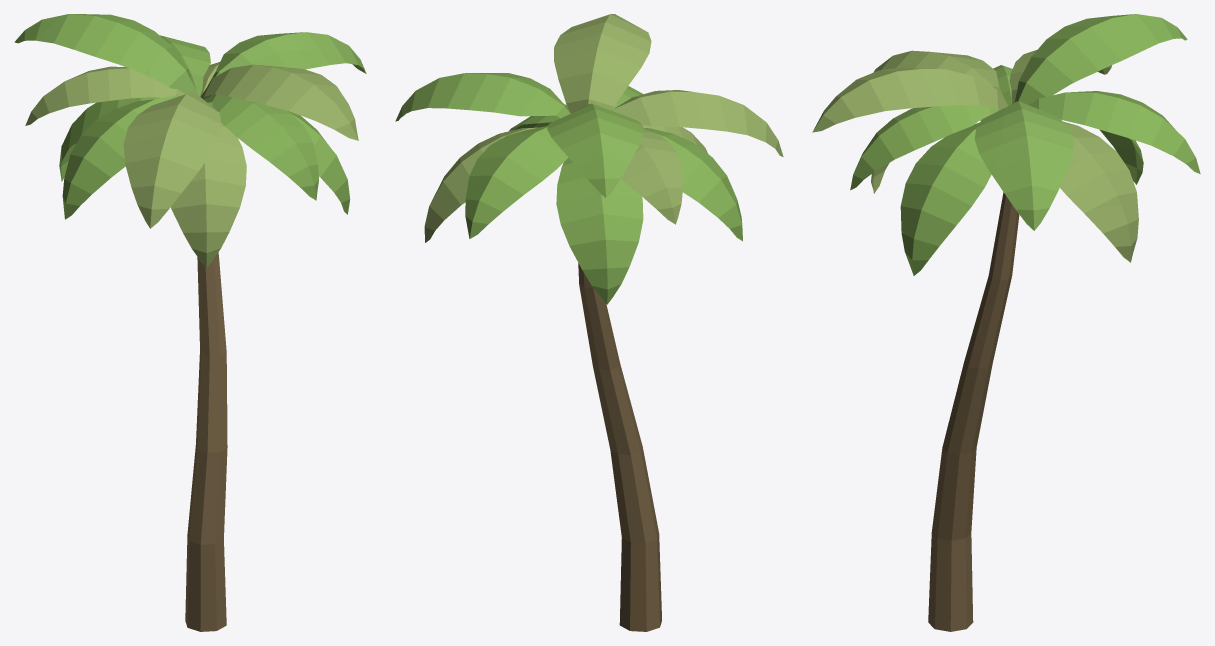
Rendered from Palm_Tree.glb.
3 views of the same model, side by side, from view 1: azimuth 30°, elevation 25°; view 2: azimuth 150°, elevation 25°; view 3: azimuth 270°, elevation 25° (orthographic). The views are drawn at different scales.
Parts seen in each view (by area): view 1: Palm-tree; view 2: Palm-tree; view 3: Palm-tree.
Boxes of the visible parts, x1,y1,x2,y2 form: Palm-tree: (14,14,366,631); Palm-tree: (395,14,783,631); Palm-tree: (812,14,1200,631).
Size of the model in its own units: 3.24 by 5.4 by 3.24.
1 material, 1 textured.
